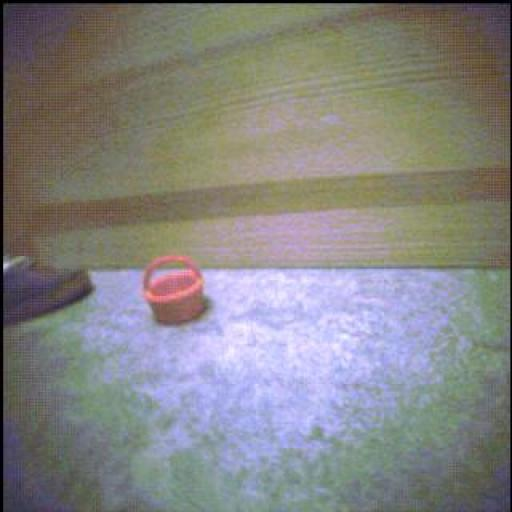Bucket: (143, 257, 206, 324)
